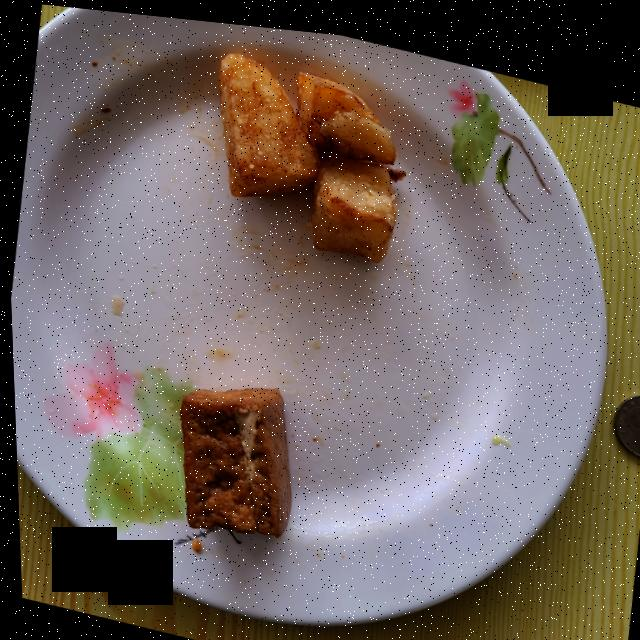coin: (611, 381, 640, 445)
egg tofu: (177, 383, 288, 531)
fried potato: (219, 48, 405, 254)
